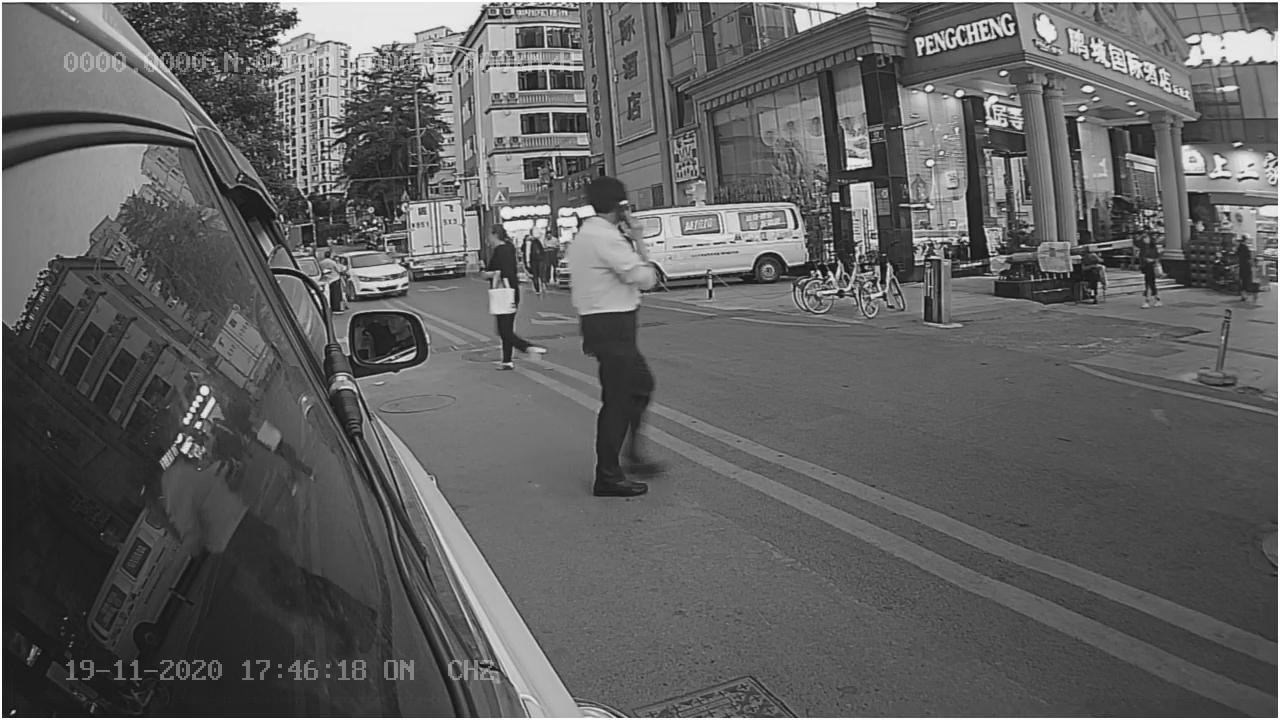person: (561, 177, 675, 508)
